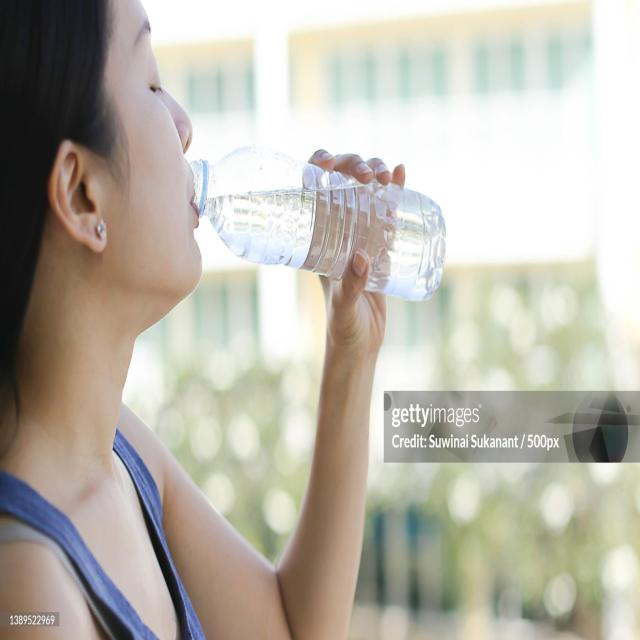bottle: (190, 145, 450, 304)
